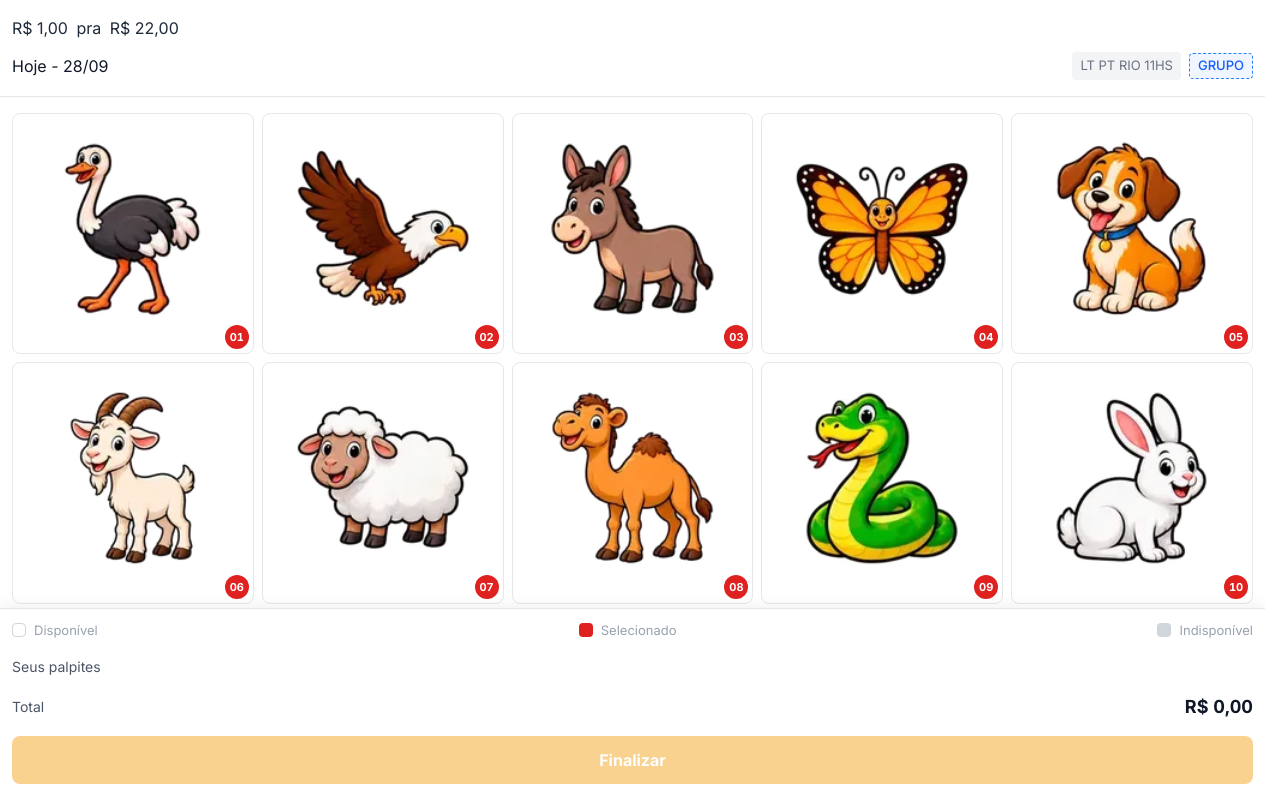
Test: PalpitesScreen › número vendido para outra pessoa: sai da seleção e vira indisponível
Click the button named "04 Borboleta" at (882, 233), box 761,112 -> 1003,354
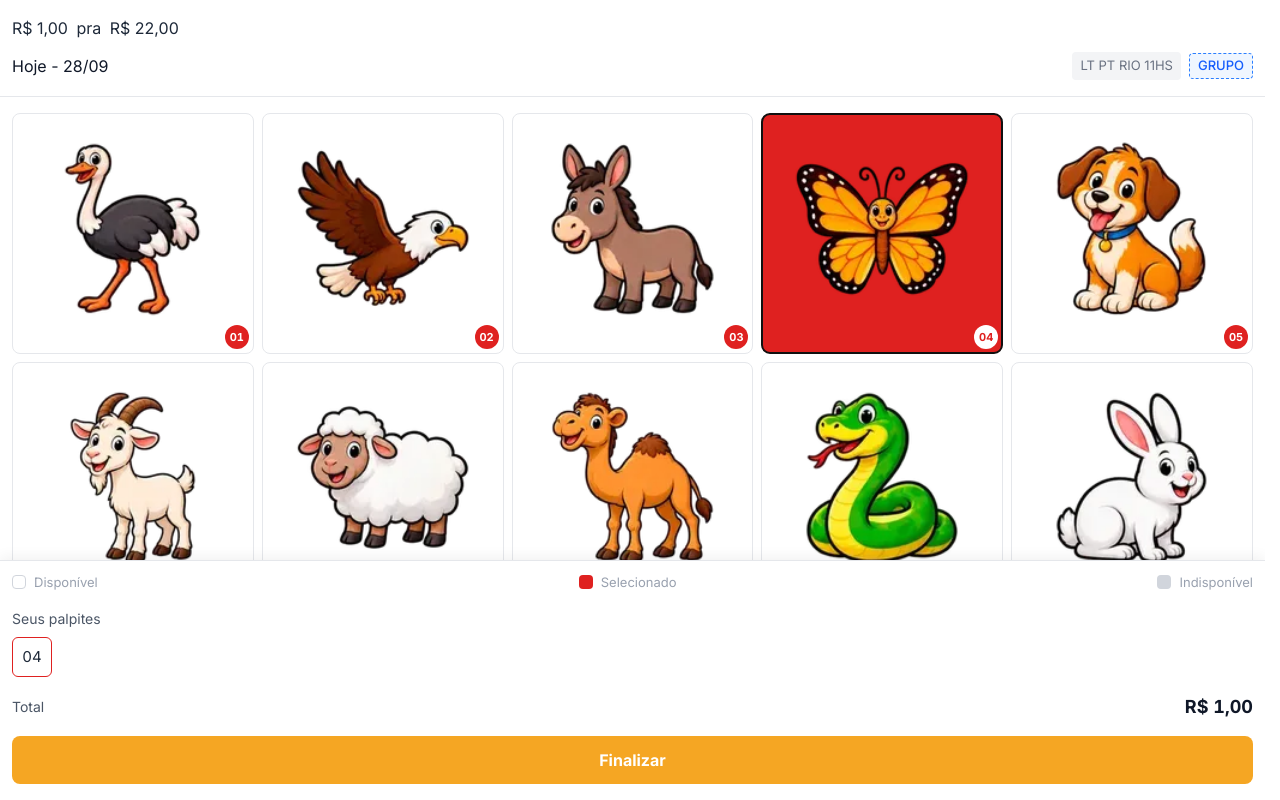
Click the button named "05 Cachorro" at (1132, 233), box 1011,112 -> 1253,354
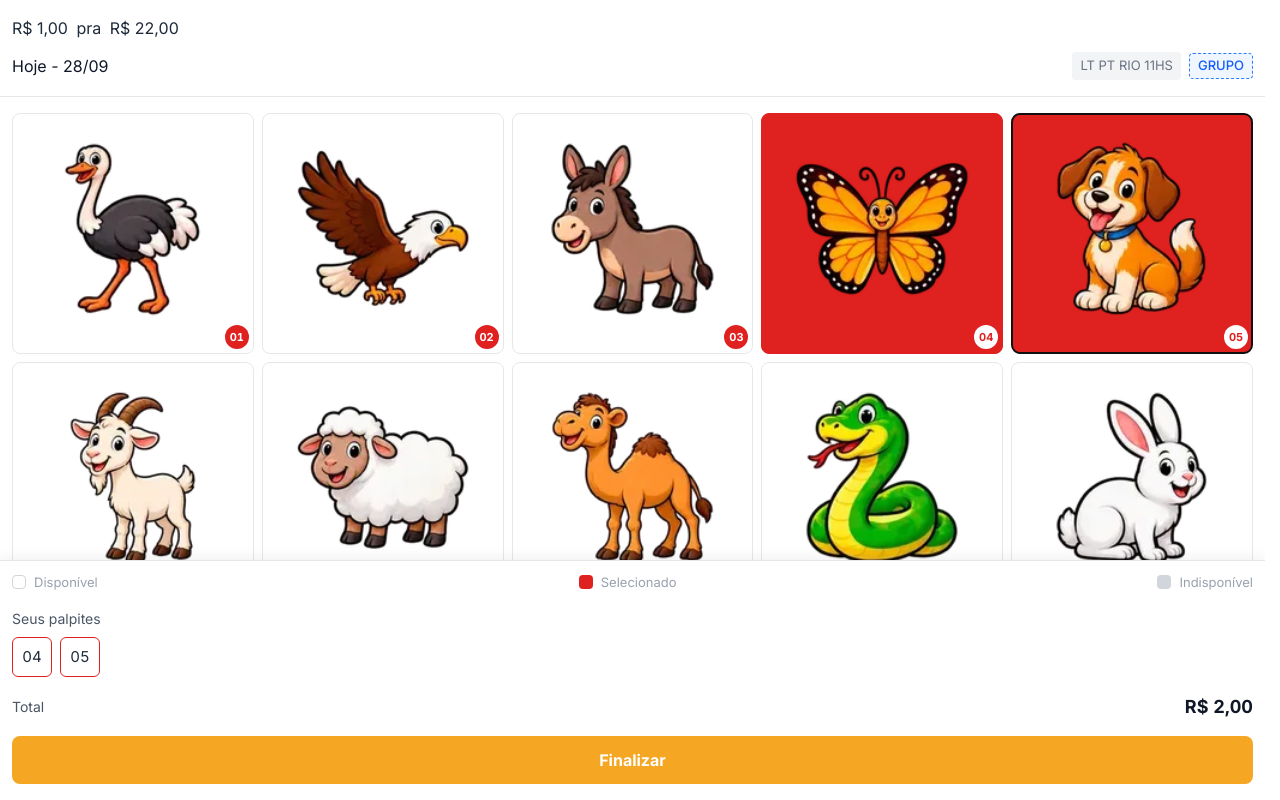
Click the button "Finalizar" at (632, 760), box 12,736 -> 1253,784
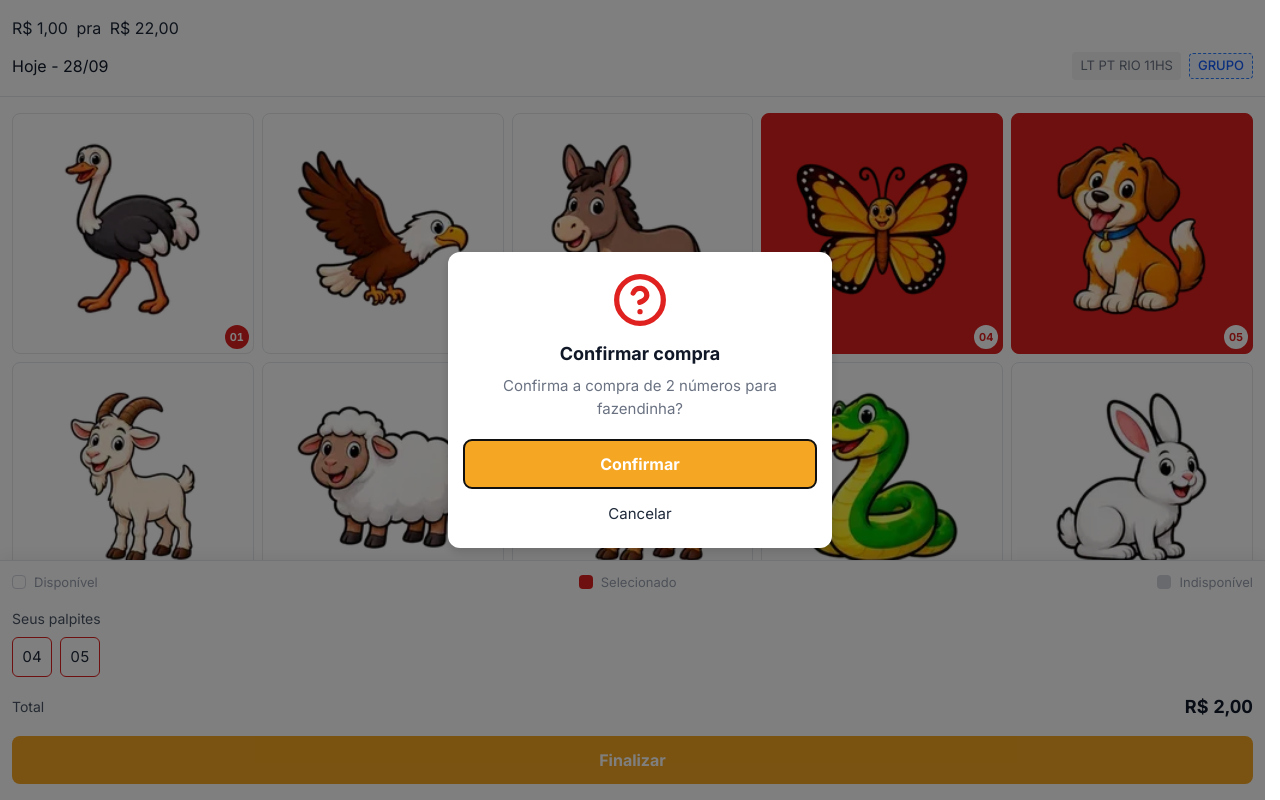
Click the button "Confirmar" at (640, 464), box 464,440 -> 816,488
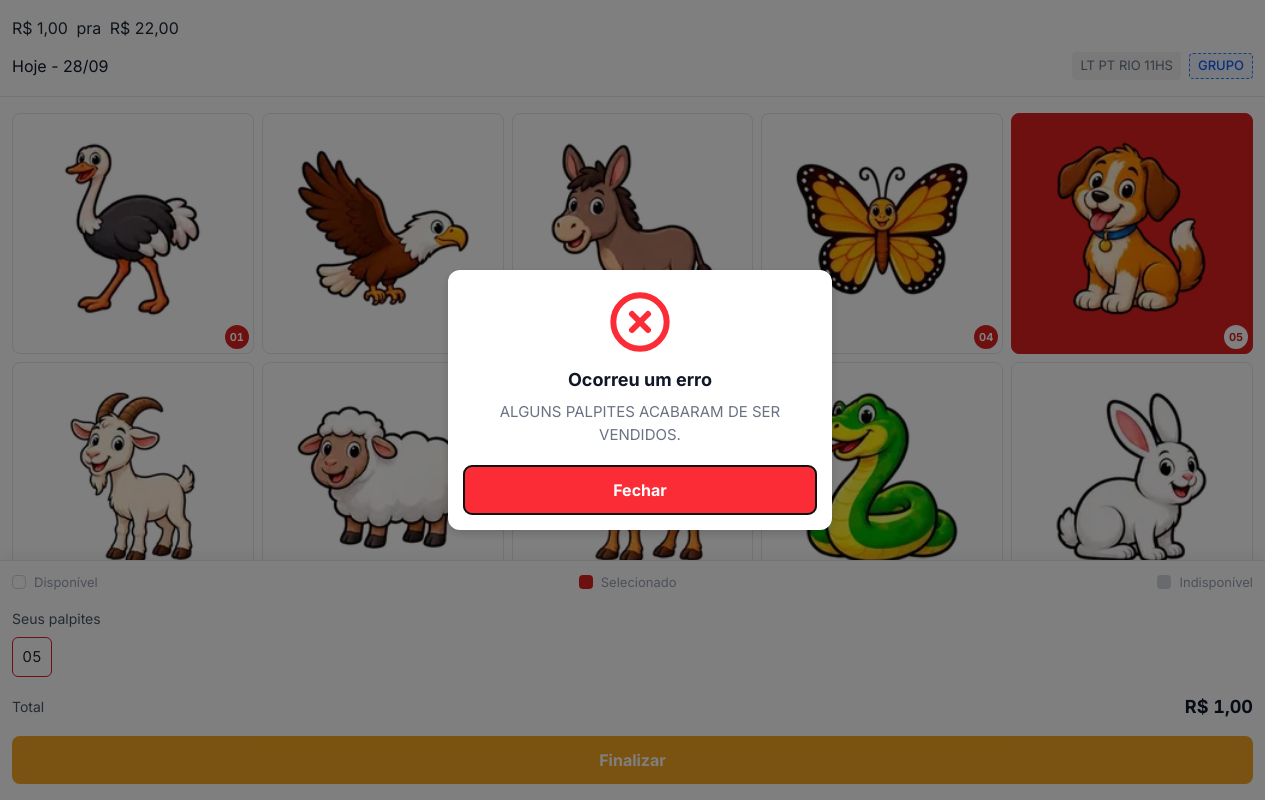
Click the button "Fechar" at (640, 490), box 464,466 -> 816,514
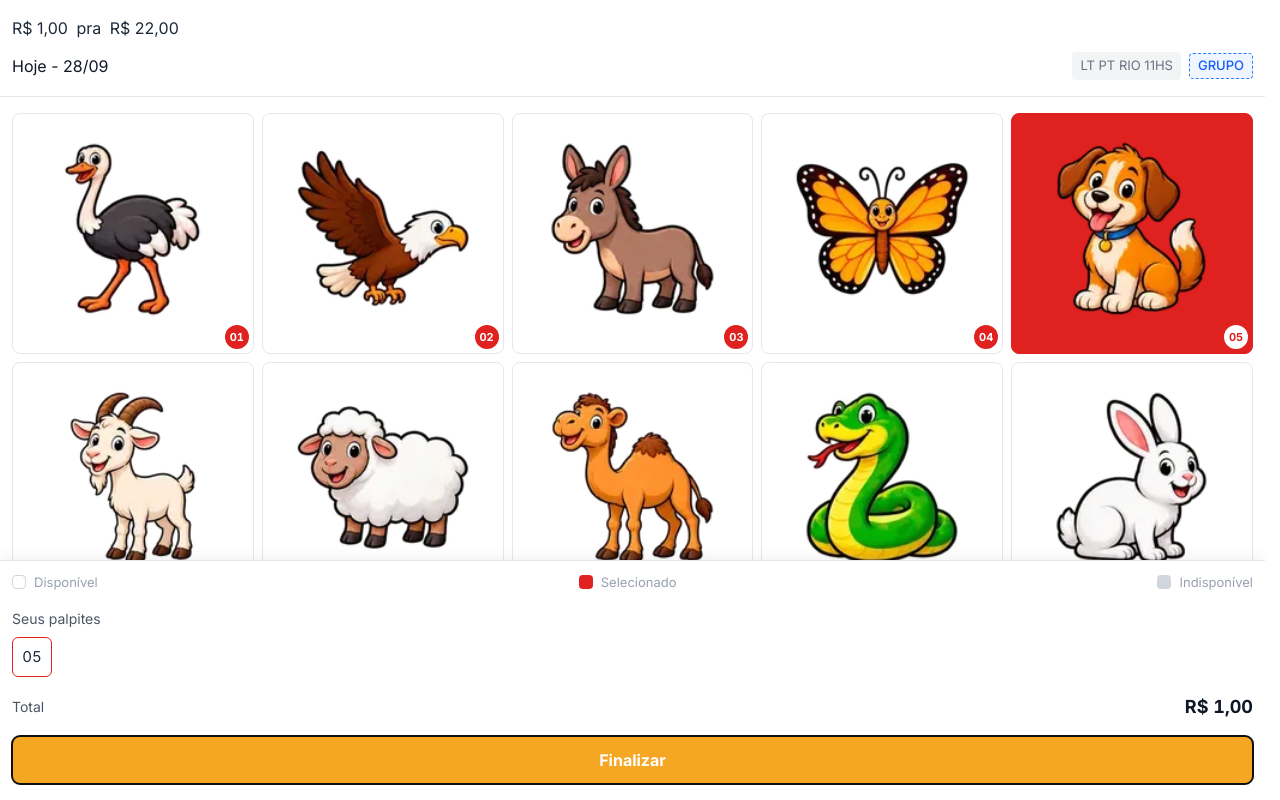
Result: the buttons read "05", in this order at 12,637 -> 52,677
Result: the dialog is gone
